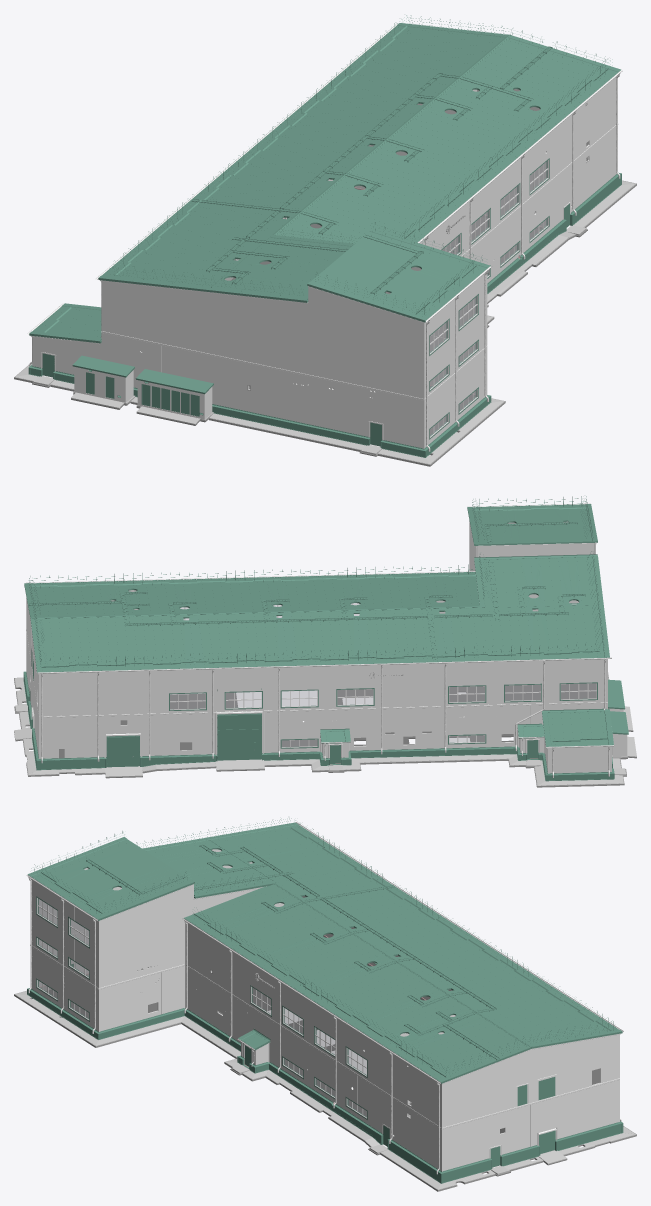
3 renders of one model, top to bottom at view 1: azimuth 30°, elevation 25°; view 2: azimuth 150°, elevation 25°; view 3: azimuth 270°, elevation 25°, orthographic. The views are drawn at different scales.
Visible parts, largest first — view 1: 1034554, 1127408, 2103771, 1126681, 2103977, 2103738, 1050893, 1050894, 1050922, 1050898, 1050923, 1050899 (+69 smaller); view 2: 1013517, 1054061, 1034554, 1127917, 238953, 1129728, 1147232, 1149159, 982992, 983000, 982998, 982990 (+96 smaller); view 3: 1034554, 1126681, 1126280, 1013517, 1147232, 1147592, 954666, 954667, 954668, 954669, 954670, 954671 (+46 smaller).
Boxes of the visible parts, x1,y1,x2,y2 form: 1034554: [15, 315, 503, 464]; 1127408: [31, 368, 422, 456]; 2103771: [141, 384, 199, 416]; 1126681: [439, 177, 620, 328]; 2103977: [75, 367, 124, 402]; 2103738: [135, 369, 213, 394]; 1050893: [337, 296, 347, 382]; 1050894: [347, 299, 357, 384]; 1050922: [308, 287, 317, 376]; 1050898: [386, 312, 396, 392]; 1050923: [318, 290, 327, 378]; 1050899: [396, 315, 406, 394]; 1013517: [170, 683, 596, 750]; 1054061: [217, 688, 261, 760]; 1034554: [312, 678, 623, 785]; 1127917: [39, 753, 319, 769]; 238953: [106, 735, 139, 767]; 1129728: [350, 748, 517, 757]; 1147232: [15, 678, 36, 774]; 1149159: [156, 759, 319, 768]; 982992: [49, 618, 64, 671]; 983000: [86, 617, 101, 670]; 982998: [77, 618, 92, 670]; 982990: [40, 619, 55, 671]; 1034554: [15, 991, 267, 1079]; 1126681: [184, 1011, 439, 1181]; 1126280: [443, 1124, 620, 1182]; 1013517: [46, 966, 366, 1116]; 1147232: [438, 1133, 635, 1189]; 1147592: [266, 1070, 372, 1140]; 954666: [153, 897, 161, 972]; 954667: [145, 900, 153, 974]; 954668: [137, 903, 145, 976]; 954669: [129, 907, 137, 979]; 954670: [121, 910, 129, 981]; 954671: [113, 913, 121, 983].
Size of what is drawn, in the model's own units: 232 by 55.43 by 212.
